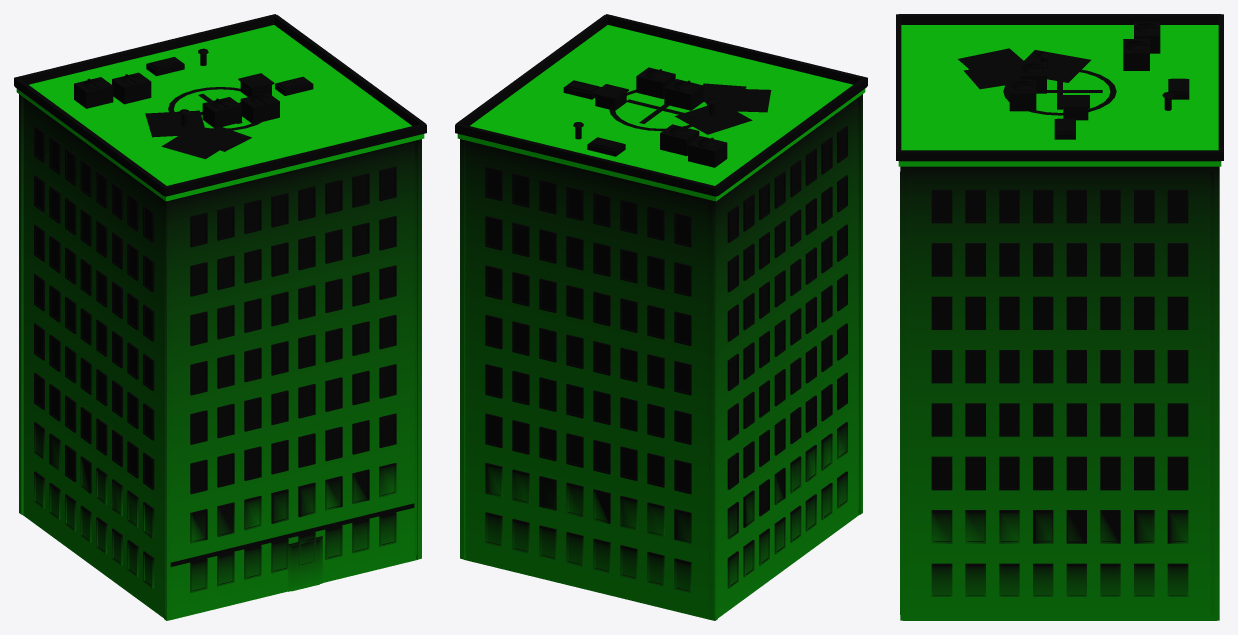
The model's file is city8storya.glb.
3 renders of one model, left to right at view 1: azimuth 30°, elevation 25°; view 2: azimuth 150°, elevation 25°; view 3: azimuth 270°, elevation 25°, orthographic. The views are drawn at different scales.
Visible parts, largest first — view 1: lod0; view 2: lod0; view 3: lod0.
Boxes of the visible parts, x1,y1,x2,y2 form: lod0: [14, 14, 426, 620]; lod0: [455, 14, 867, 620]; lod0: [896, 14, 1223, 620].
Size of what is drawn, in the model's own units: 18.5 by 30.04 by 18.5.
